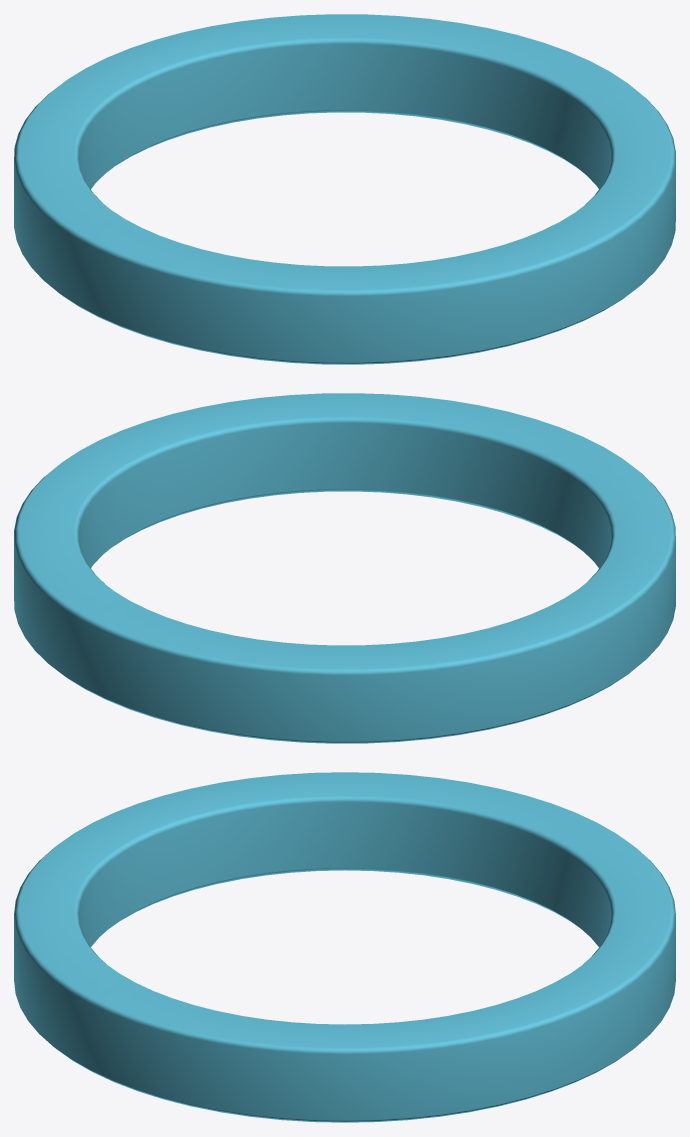
3 views of the same model, one above another, from view 1: azimuth 30°, elevation 25°; view 2: azimuth 150°, elevation 25°; view 3: azimuth 270°, elevation 25° (orthographic).
Parts seen in each view (by area): view 1: seal_body; view 2: seal_body; view 3: seal_body.
Part boxes in pixels (bbox=[...]): seal_body: bbox=[14, 14, 675, 364]; seal_body: bbox=[14, 393, 675, 743]; seal_body: bbox=[14, 772, 675, 1122].
Bounding box in the file's own units: 0.056 × 0.007 × 0.056.
